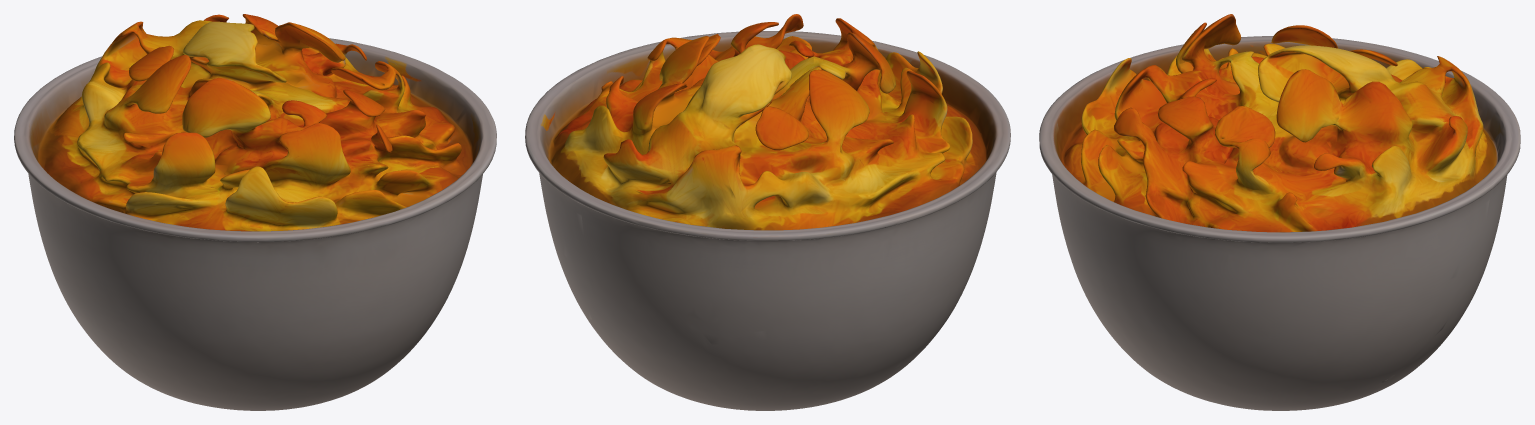
File: hunyuan-petalsteel-40k.glb
The picture shows the model from 3 angles, left to right: view 1: azimuth 30°, elevation 25°; view 2: azimuth 150°, elevation 25°; view 3: azimuth 270°, elevation 25°; orthographic projection.
Visible parts, largest first — view 1: material; view 2: material; view 3: material.
Part boxes in pixels (<box>): material: <box>14,14,496,410</box>; material: <box>525,14,1010,410</box>; material: <box>1039,14,1520,410</box>.
Size of the model in its own units: 1.14 by 0.848 by 1.14.
1 material, 1 textured.
